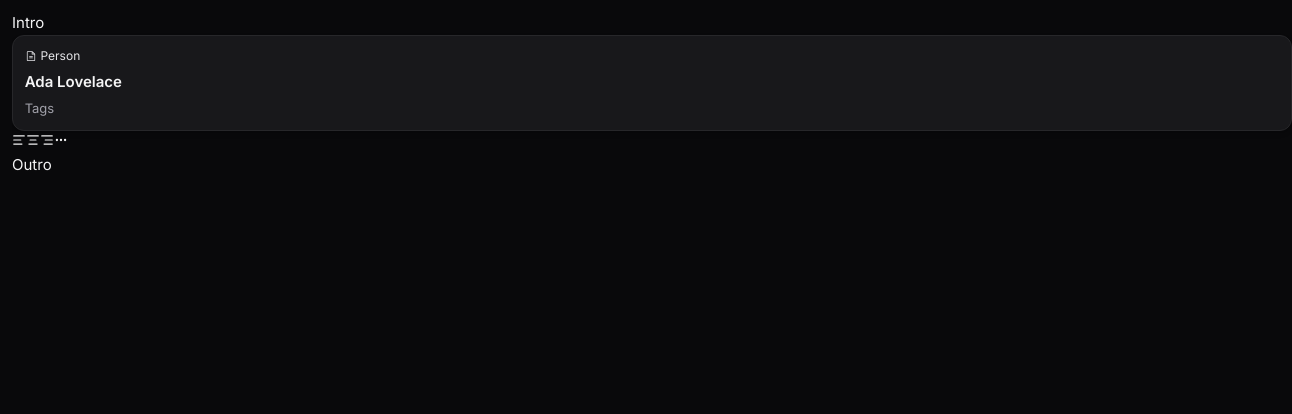
Test: ObjectEmbedView › test turn into inline link replaces the card with a link line
Click the button named "Block menu": x=61, y=140 [54,133,68,147]
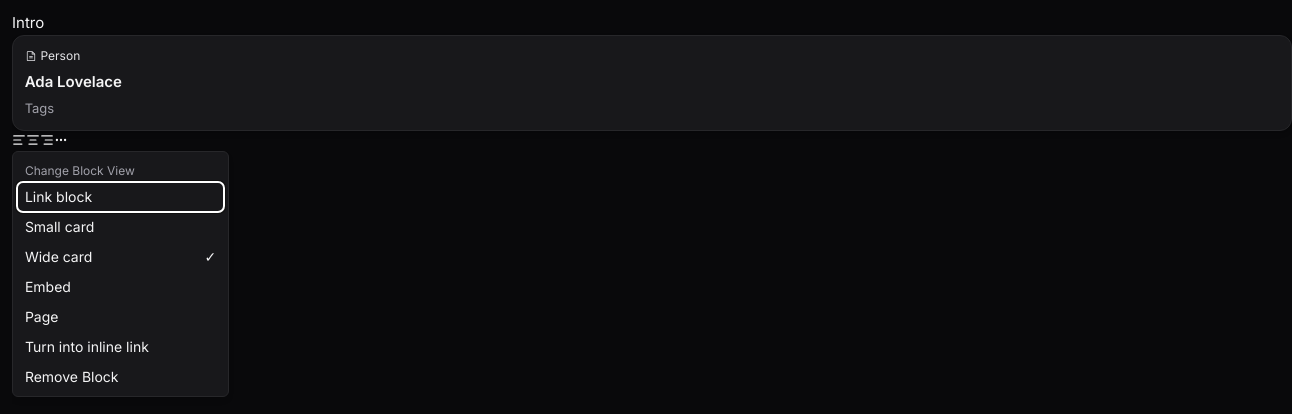
Click the menu item "Turn into inline link": x=121, y=347 [17,332,224,362]
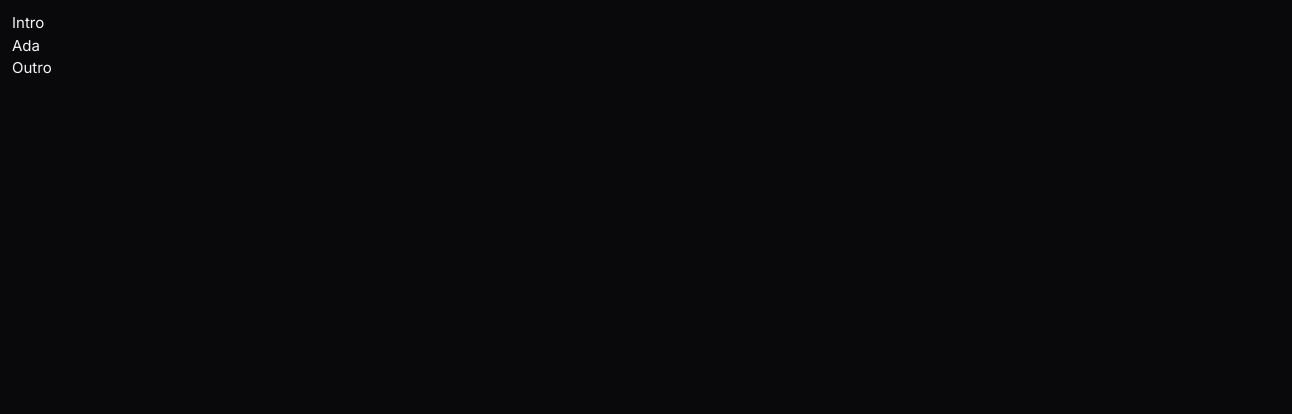
Result: the element with test id "object-embed" is gone
